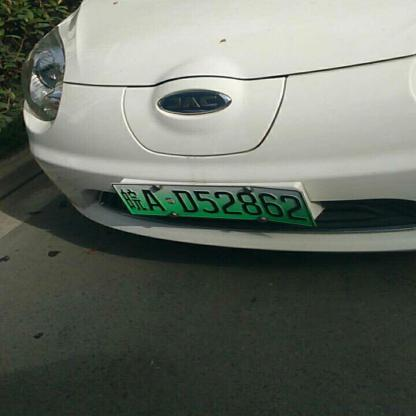lp: (112, 185, 315, 227)
